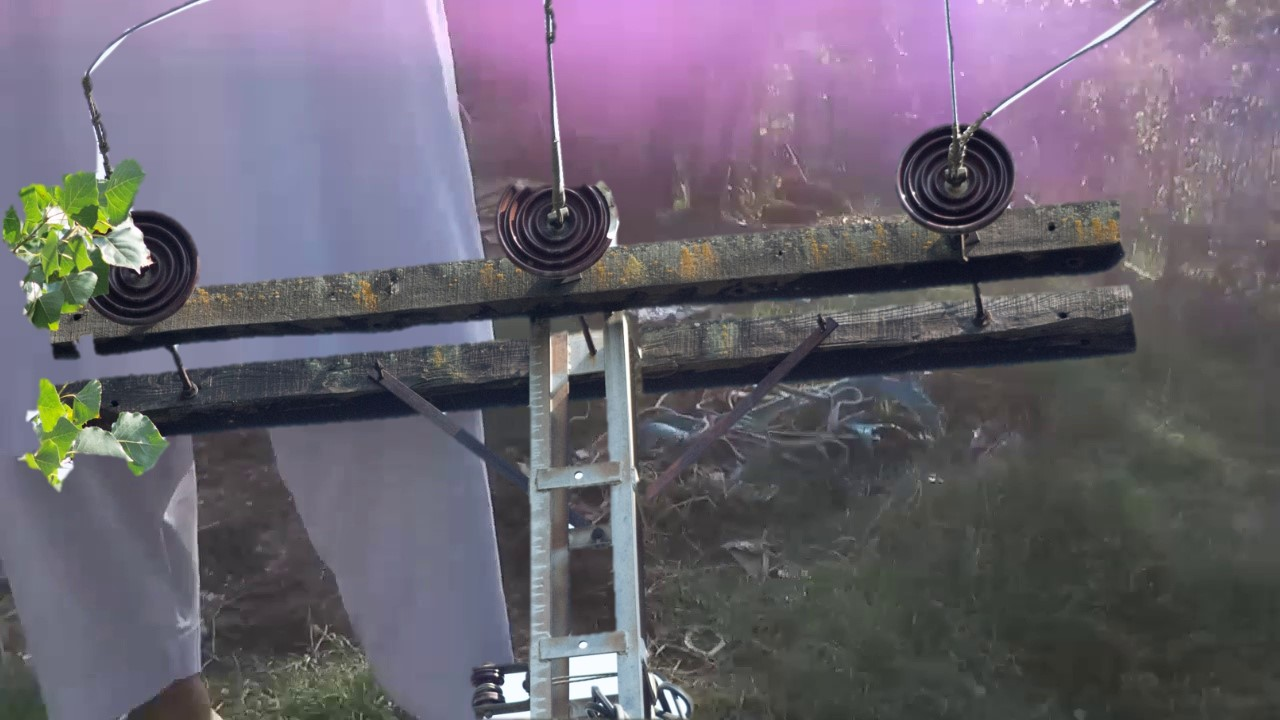defect_disc: (493, 171, 626, 285)
insulator_disc: (894, 120, 1020, 241), (136, 206, 202, 322)
